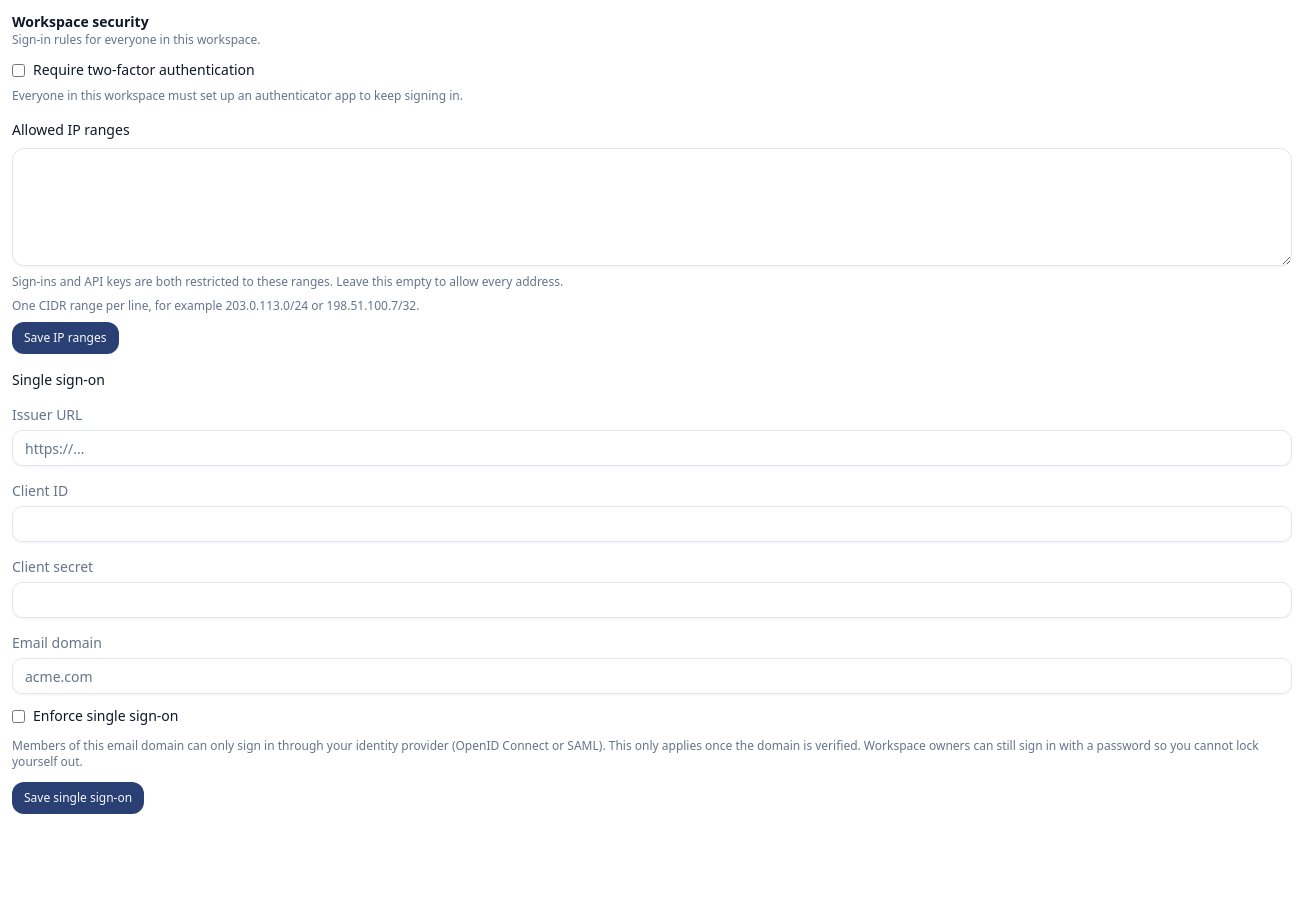
Test: OrgSecurityPolicyCard › a 422 two_factor_required_for_actor lands under the Require 2FA checkbox, not as a generic error
Click the checkbox labelled "Require two-factor authentication": (18, 70) [12, 64, 25, 76]
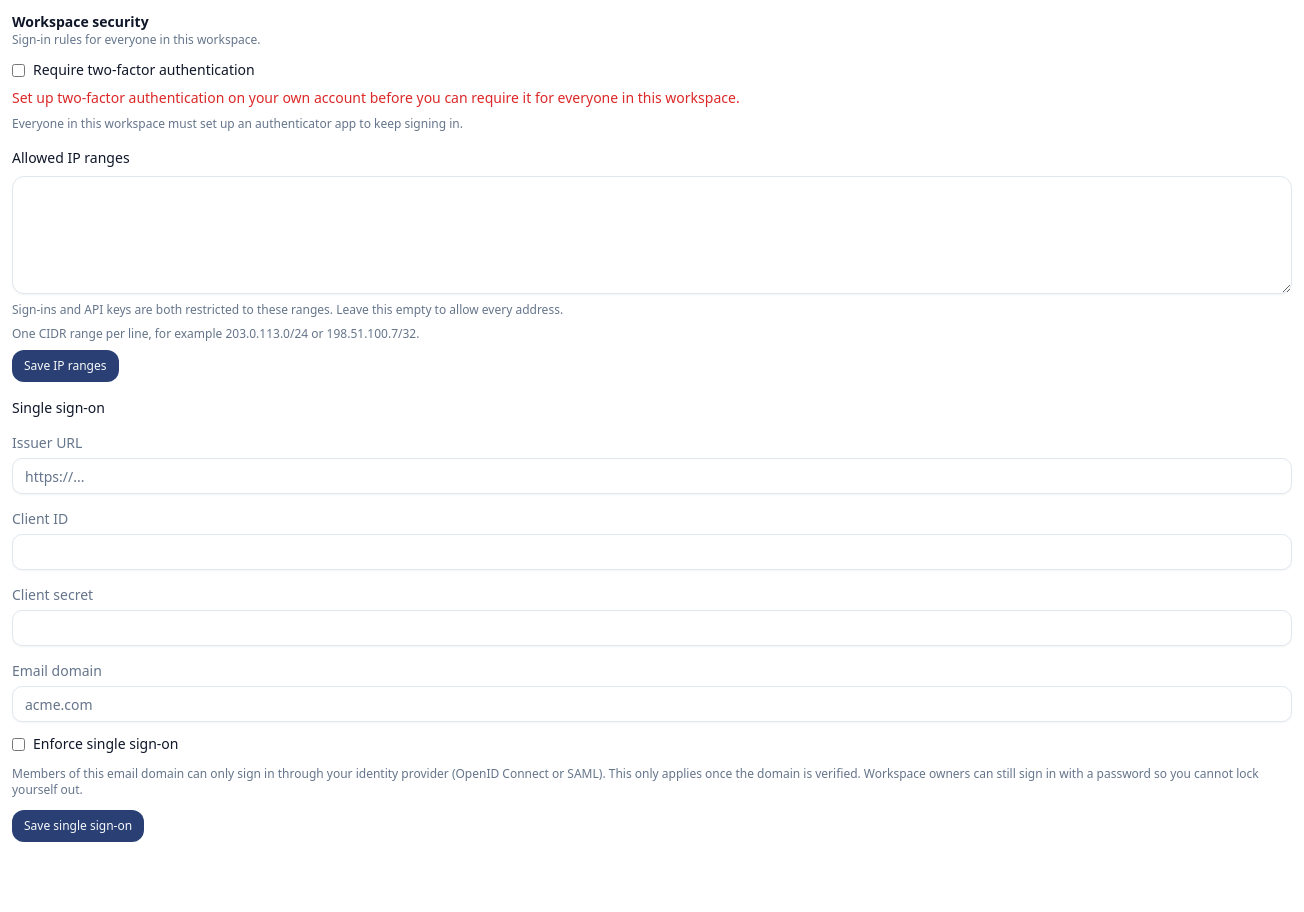
expect the number of messages is 1: met, box [12, 88, 740, 107]
expect the message shows "Set up two-factor authentication on your own account before you can require it for everyone in this workspace.": met, box [12, 88, 740, 107]
